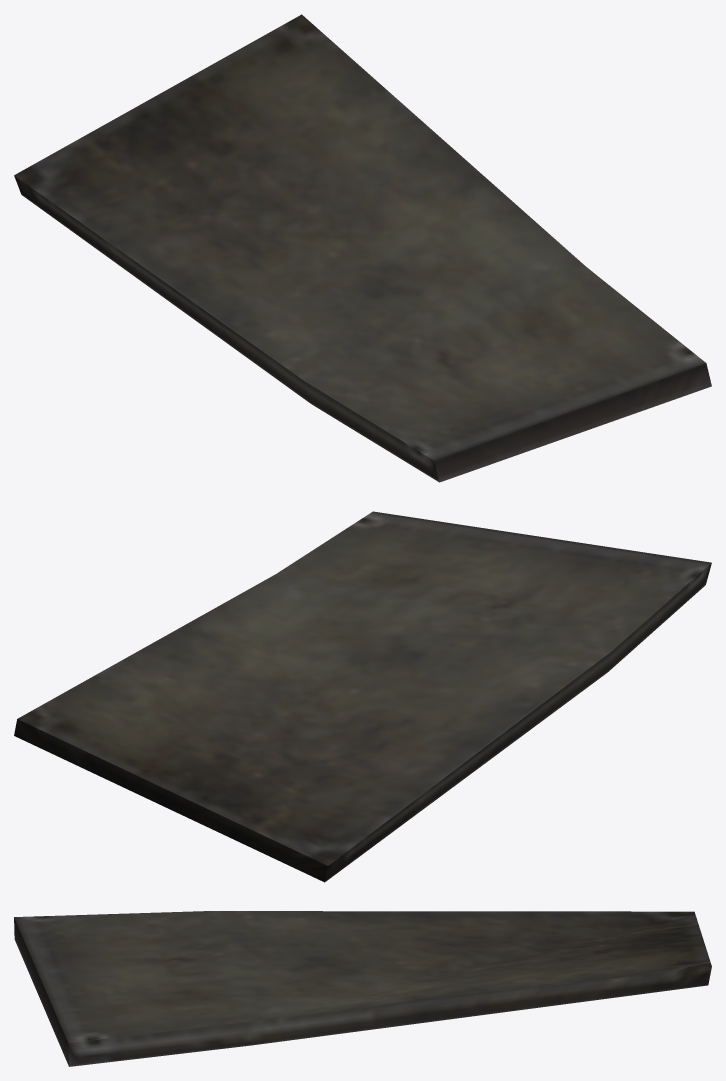
The model's file is comdome_metal_plate01.dae.
The picture shows the model from 3 angles, top to bottom: view 1: azimuth 30°, elevation 25°; view 2: azimuth 150°, elevation 25°; view 3: azimuth 270°, elevation 25°; orthographic projection. The views are drawn at different scales.
Parts seen in each view (by area): view 1: polySurface710; view 2: polySurface710; view 3: polySurface710.
Boxes of the visible parts, box(x1,y1,x2,y2) form: polySurface710: box(14, 14, 711, 482); polySurface710: box(14, 511, 711, 882); polySurface710: box(14, 911, 711, 1066).
Size of the model in its own units: 0.7012 by 0.2086 by 1.51.
